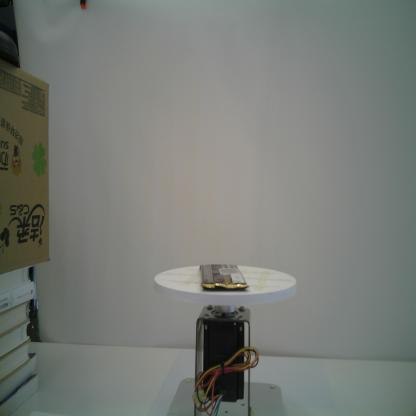Chocolate: (196, 258, 251, 292)
